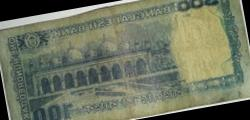100 taka: (14, 0, 230, 120)
